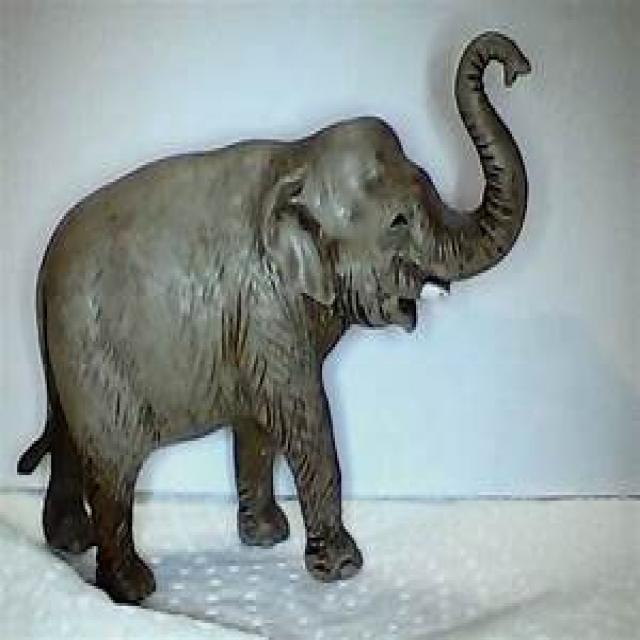elephant: (17, 31, 531, 609)
